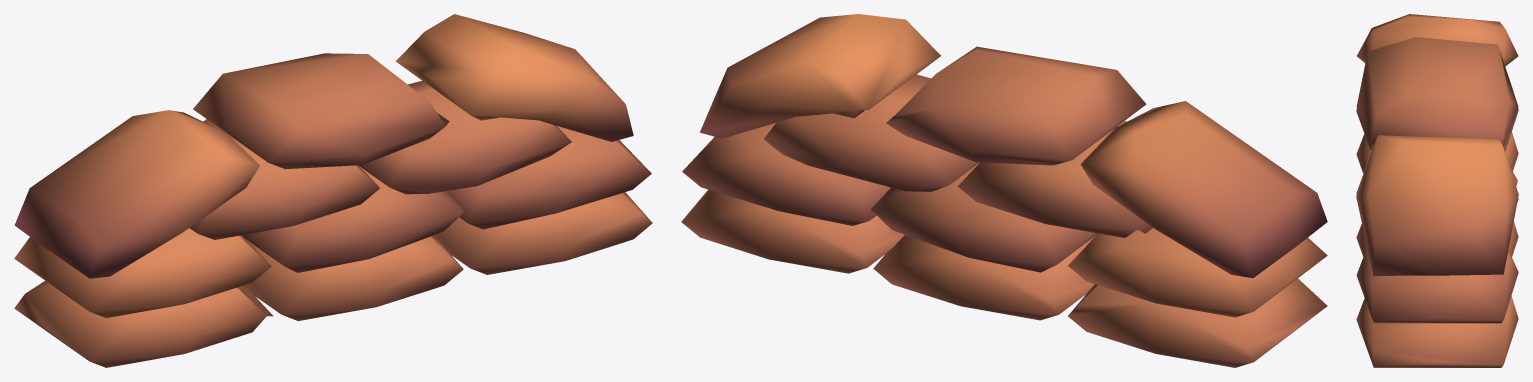
File: Sandbags_Wall.fbx
3 renders of one model, left to right at view 1: azimuth 30°, elevation 25°; view 2: azimuth 150°, elevation 25°; view 3: azimuth 270°, elevation 25°, orthographic. The views are drawn at different scales.
Visible parts, largest first — view 1: MDL_Sandbags_Wall; view 2: MDL_Sandbags_Wall; view 3: MDL_Sandbags_Wall.
Part boxes in pixels (bbox=[...]): MDL_Sandbags_Wall: bbox=[14, 14, 652, 367]; MDL_Sandbags_Wall: bbox=[681, 14, 1327, 367]; MDL_Sandbags_Wall: bbox=[1356, 14, 1518, 367].
Bounding box in the file's own units: 1.42 × 0.4849 × 0.3904.
